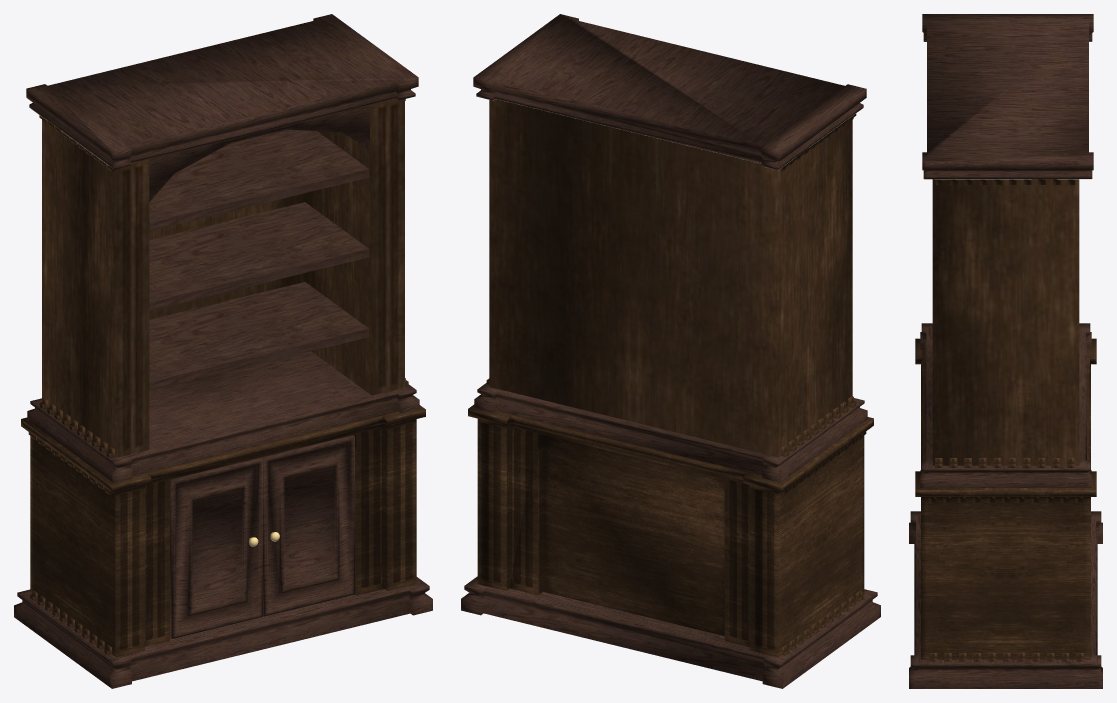
The picture shows the model from 3 angles, left to right: view 1: azimuth 30°, elevation 25°; view 2: azimuth 150°, elevation 25°; view 3: azimuth 270°, elevation 25°; orthographic projection.
Visible parts, largest first — view 1: Plane.001; view 2: Plane.001; view 3: Plane.001.
Part boxes in pixels (left/top/right/bottom): Plane.001: left=14, top=14, right=432, bottom=688; Plane.001: left=461, top=14, right=880, bottom=688; Plane.001: left=909, top=14, right=1102, bottom=688.
Size of the model in its own units: 1.27 by 2 by 0.6704.
1 material, 1 textured.
